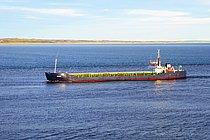Ship: (41, 46, 192, 91)
